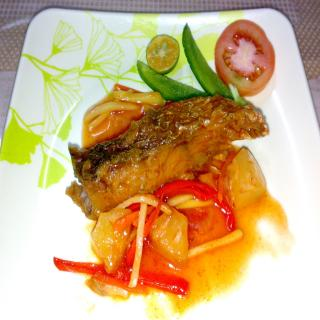tomato: (215, 17, 272, 91)
